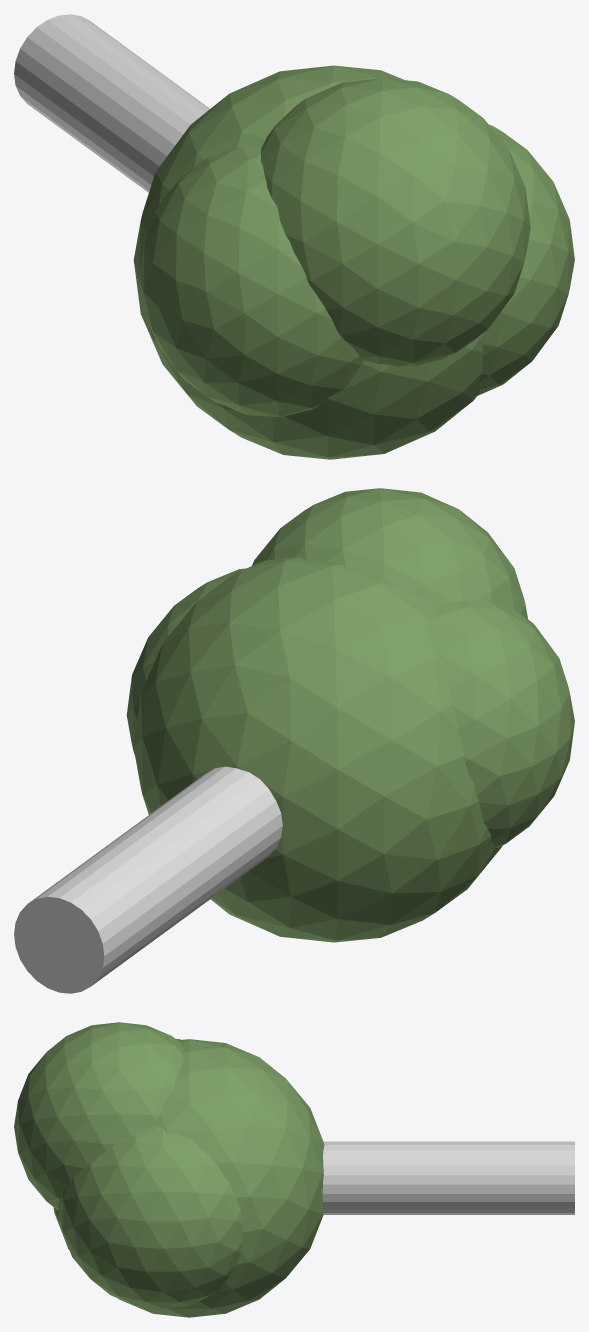
Rendered from Oak_Tree_HD.glb.
3 views of the same model, one above another, from view 1: azimuth 30°, elevation 25°; view 2: azimuth 150°, elevation 25°; view 3: azimuth 270°, elevation 25° (orthographic). The views are drawn at different scales.
Parts seen in each view (by area): view 1: leaf3, leaf2, leaf0, trunk, leaf1; view 2: leaf0, trunk, leaf2, leaf3, leaf1; view 3: leaf0, leaf1, leaf3, trunk.
Part boxes in pixels (<box>): leaf3: <box>261,78,530,366</box>; leaf2: <box>139,146,363,416</box>; leaf0: <box>133,65,484,459</box>; trunk: <box>14,14,209,192</box>; leaf1: <box>477,124,574,395</box>; leaf0: <box>133,557,502,942</box>; trunk: <box>14,766,282,993</box>; leaf2: <box>437,599,574,847</box>; leaf3: <box>252,488,527,618</box>; leaf1: <box>126,568,245,756</box>; leaf0: <box>53,1039,324,1317</box>; leaf1: <box>58,1125,243,1308</box>; leaf3: <box>14,1022,183,1209</box>; trunk: <box>322,1141,574,1214</box>.
Size of the model in its own units: 3.75 by 3.45 by 6.4.
